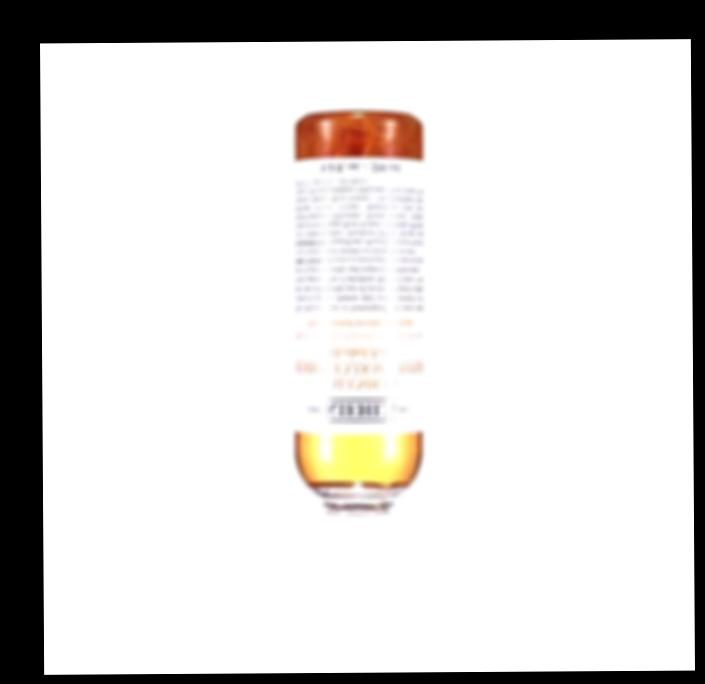cosmetic: (295, 108, 424, 598)
